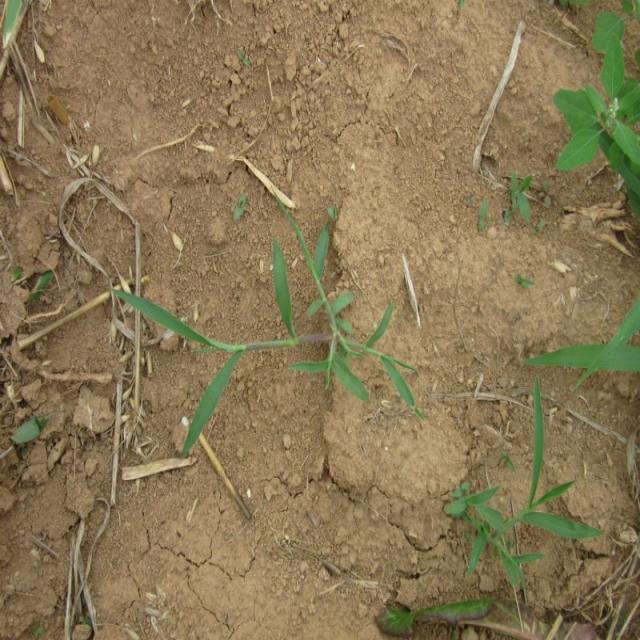bg: (104, 212, 439, 464)
